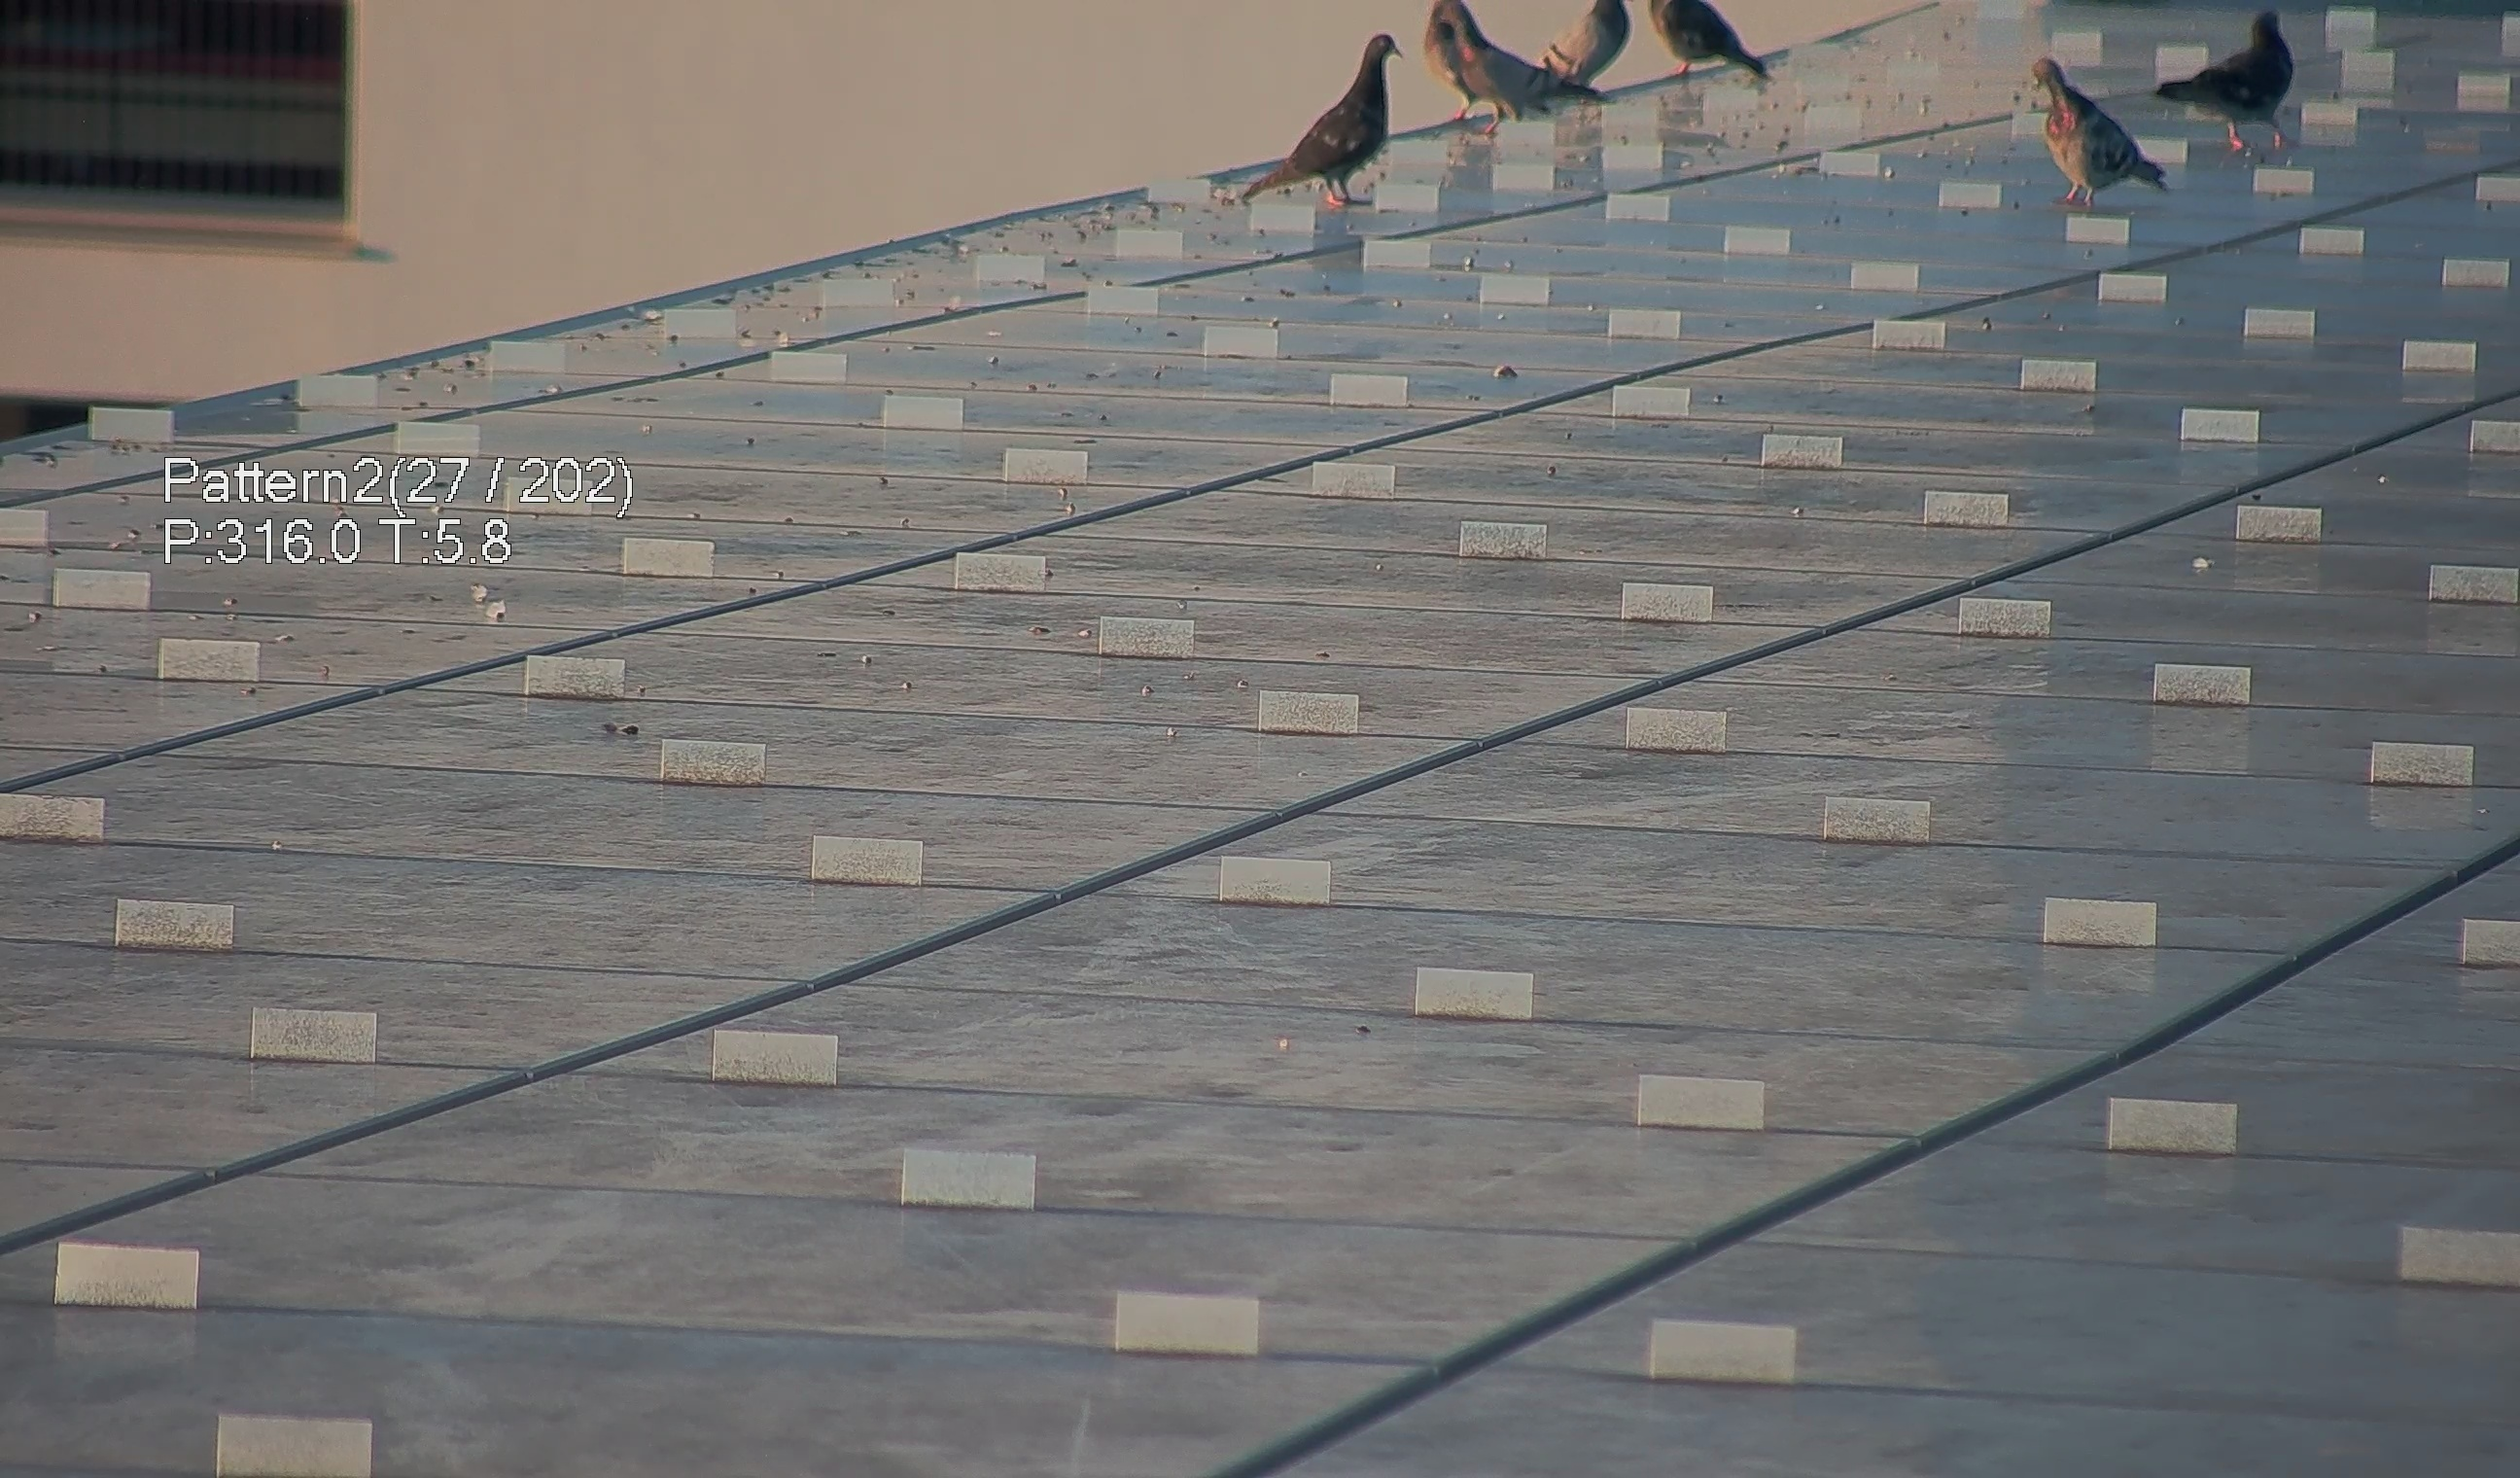Pigeon: (1222, 19, 1409, 211), (1414, 0, 1634, 128), (2038, 51, 2196, 211), (2159, 7, 2314, 141), (1653, 0, 1792, 86)
